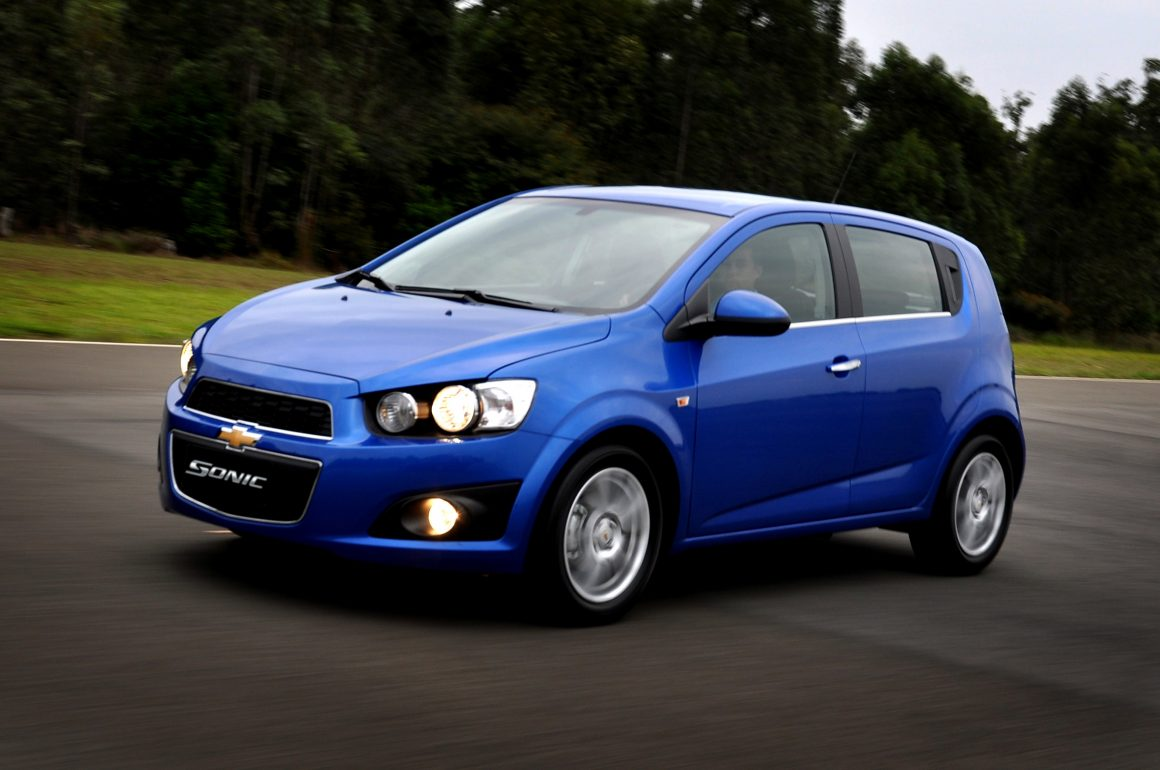Carro: (153, 152, 1025, 616)
